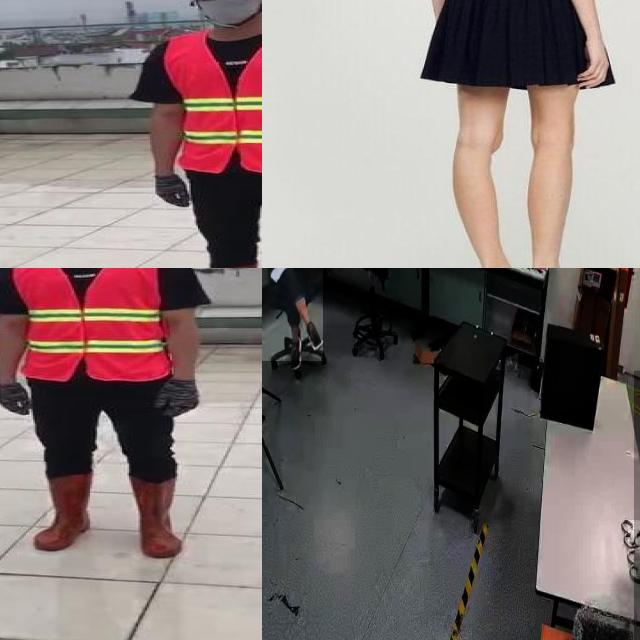boots: (31, 474, 96, 551), (126, 476, 182, 559)
face_mask: (191, 0, 262, 25)
glasses: (188, 0, 262, 5)
hand_glove: (158, 380, 200, 423), (154, 173, 192, 208), (0, 383, 31, 417), (630, 545, 640, 593), (628, 520, 640, 553)
hand_noglove: (577, 0, 612, 114)
person: (0, 268, 210, 561), (416, 0, 619, 268), (130, 0, 262, 268), (262, 268, 323, 361)
shoes: (302, 315, 326, 358), (287, 334, 303, 372)
vest: (8, 268, 182, 382), (165, 30, 262, 175)
